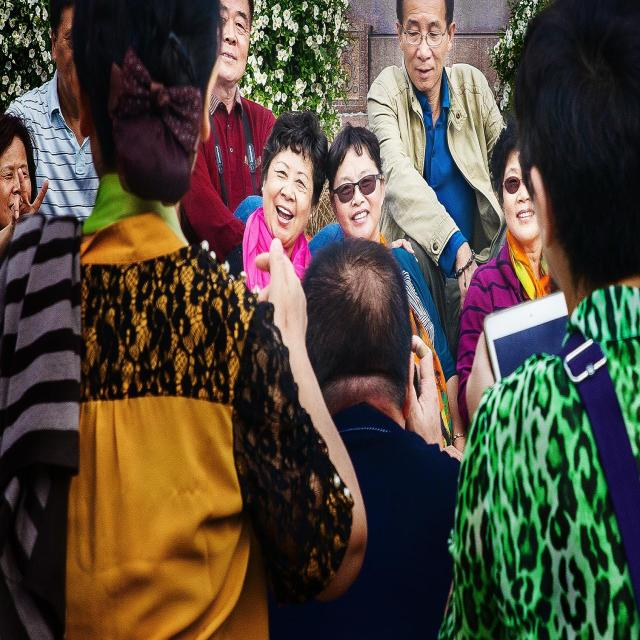body: (0, 0, 369, 639), (261, 230, 464, 640), (366, 0, 509, 368), (325, 120, 468, 456), (175, 0, 346, 267), (454, 123, 575, 445), (453, 116, 562, 433), (3, 0, 99, 222), (222, 107, 328, 294), (0, 108, 48, 242)
